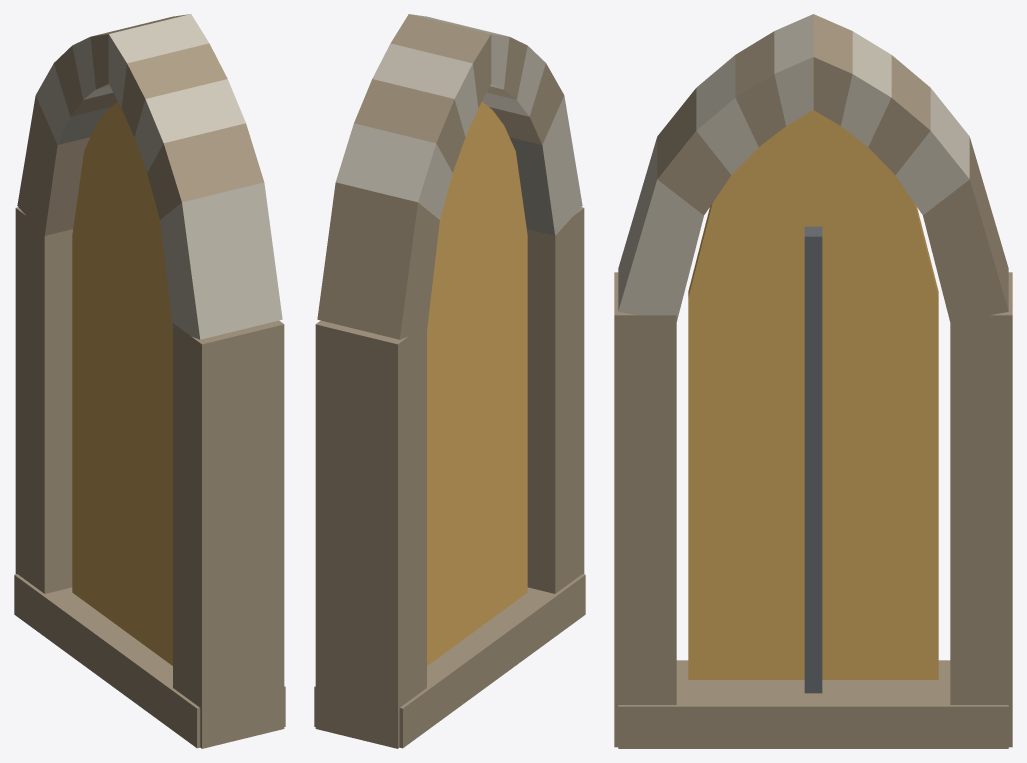
The model's file is Lancet__Single.fbx.
The picture shows the model from 3 angles, left to right: view 1: azimuth 30°, elevation 25°; view 2: azimuth 150°, elevation 25°; view 3: azimuth 270°, elevation 25°; orthographic projection. The views are drawn at different scales.
Visible parts, largest first — view 1: Lancet__Single; view 2: Lancet__Single; view 3: Lancet__Single.
Part boxes in pixels (box(x1,y1,x2,y2)): Lancet__Single: box(14, 14, 285, 748); Lancet__Single: box(314, 14, 585, 748); Lancet__Single: box(614, 14, 1012, 748).
Size of the model in its own units: 28 by 195 by 102.
1 material, 1 textured.
